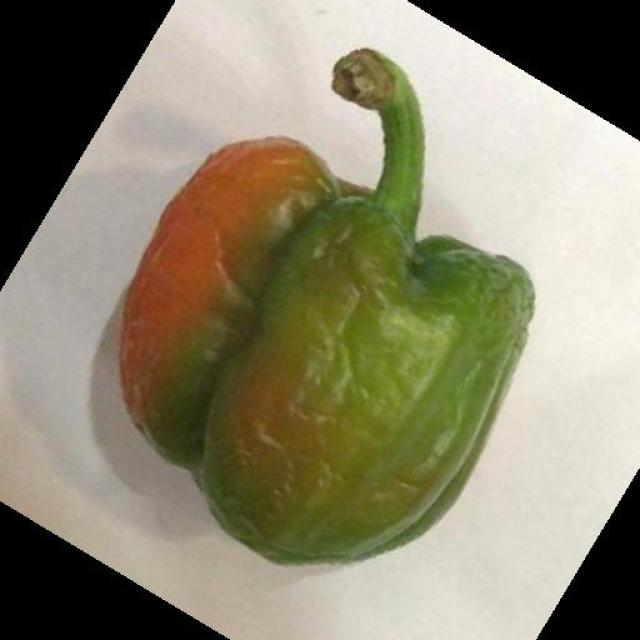Stale_Capsicum: (108, 128, 532, 551)
